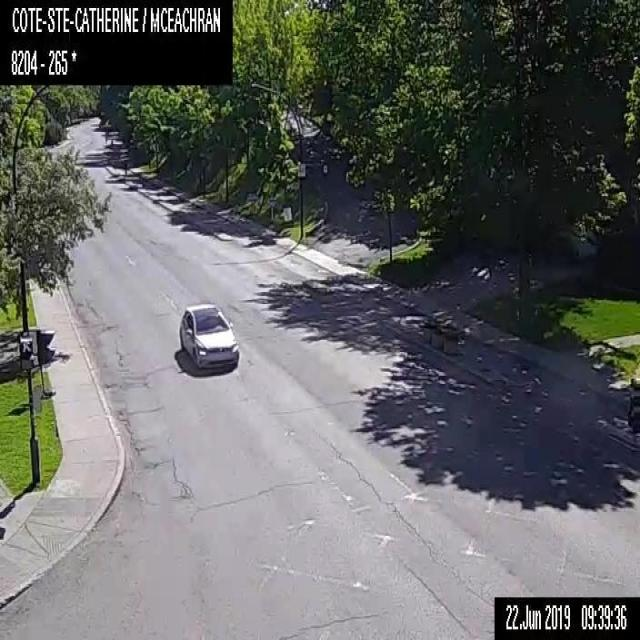vehicle: (177, 302, 238, 371)
